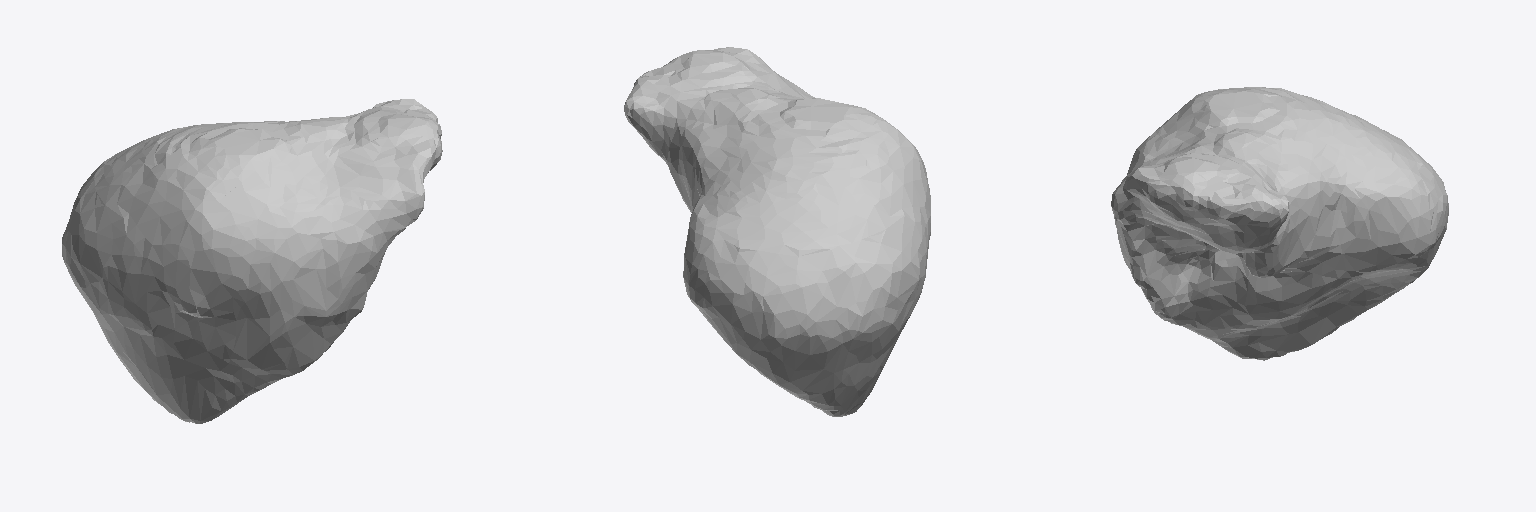
The model's file is Parenchyma_collision.obj.
The picture shows the model from 3 angles: view 1: azimuth 30°, elevation 25°; view 2: azimuth 150°, elevation 25°; view 3: azimuth 270°, elevation 25°; orthographic projection.
Visible parts, largest first — view 1: Parenchyma_Liver; view 2: Parenchyma_Liver; view 3: Parenchyma_Liver.
Part boxes in pixels (x1,y1,x2,y2): Parenchyma_Liver: (62,99,442,423); Parenchyma_Liver: (624,47,930,416); Parenchyma_Liver: (1111,87,1448,360).
Size of the model in its own units: 198 by 175 by 190.